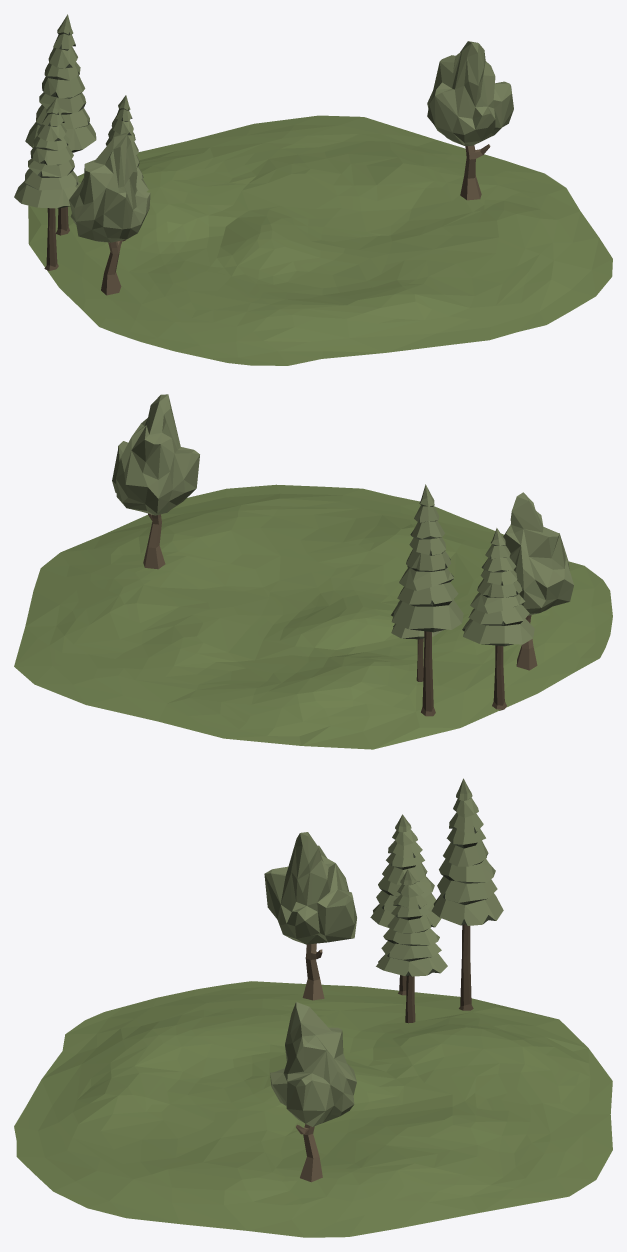
File: weather.glb
3 views of the same model, one above another, from view 1: azimuth 30°, elevation 25°; view 2: azimuth 150°, elevation 25°; view 3: azimuth 270°, elevation 25° (orthographic). The views are drawn at different scales.
Parts seen in each view (by area): view 1: SM_Terrain_Ground_Mound_Large_02.001, SM_Tree_01.001, SM_Tree_01.002, SM_Tree_PolyPine_01.003, SM_Tree_PolyPine_01.002, SM_Tree_PolyPine_01.001; view 2: SM_Terrain_Ground_Mound_Large_02.001, SM_Tree_01.001, SM_Tree_PolyPine_01.002, SM_Tree_01.002, SM_Tree_PolyPine_01.003, SM_Tree_PolyPine_01.001; view 3: SM_Terrain_Ground_Mound_Large_02.001, SM_Tree_01.002, SM_Tree_01.001, SM_Tree_PolyPine_01.002, SM_Tree_PolyPine_01.001, SM_Tree_PolyPine_01.003.
Boxes of the visible parts, x1,y1,x2,y2 form: SM_Terrain_Ground_Mound_Large_02.001: [28, 115, 612, 365]; SM_Tree_01.001: [427, 41, 513, 200]; SM_Tree_01.002: [69, 133, 150, 295]; SM_Tree_PolyPine_01.003: [14, 98, 80, 270]; SM_Tree_PolyPine_01.002: [25, 14, 96, 235]; SM_Tree_PolyPine_01.001: [105, 95, 148, 241]; SM_Terrain_Ground_Mound_Large_02.001: [14, 484, 612, 749]; SM_Tree_01.001: [112, 394, 199, 569]; SM_Tree_PolyPine_01.002: [391, 484, 463, 716]; SM_Tree_01.002: [503, 492, 573, 670]; SM_Tree_PolyPine_01.003: [462, 528, 534, 710]; SM_Tree_PolyPine_01.001: [391, 554, 442, 681]; SM_Terrain_Ground_Mound_Large_02.001: [14, 981, 612, 1237]; SM_Tree_01.002: [264, 832, 356, 1000]; SM_Tree_01.001: [270, 1002, 356, 1182]; SM_Tree_PolyPine_01.002: [431, 778, 503, 1010]; SM_Tree_PolyPine_01.001: [376, 869, 447, 1023]; SM_Tree_PolyPine_01.003: [370, 814, 441, 995].
Size of the model in its own units: 20.05 by 8.98 by 19.51.
Materials: 1 (1 with a texture image).
